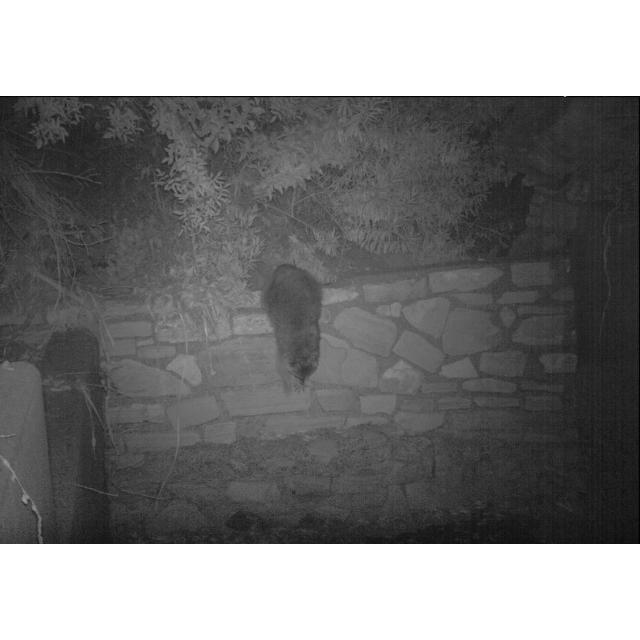animals: (267, 262, 327, 386)
